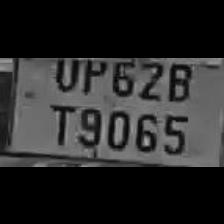0: (102, 103, 130, 151)
2: (135, 58, 163, 100)
5: (158, 108, 188, 154)
6: (132, 108, 158, 153), (106, 57, 134, 97)
9: (74, 101, 102, 147)
B: (163, 58, 192, 102)
P: (78, 58, 106, 94)
T: (44, 98, 74, 144)
U: (48, 57, 78, 91)
